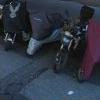Motorcycle: (21, 9, 86, 76)
